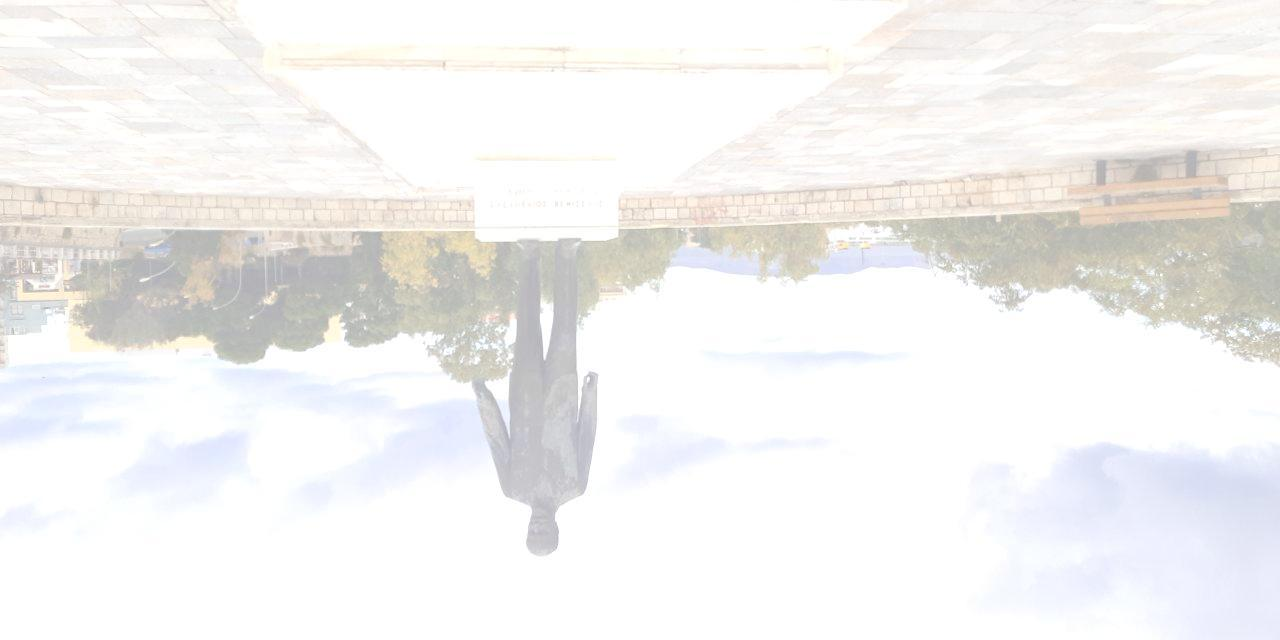Venizelos: (478, 241, 602, 562)
